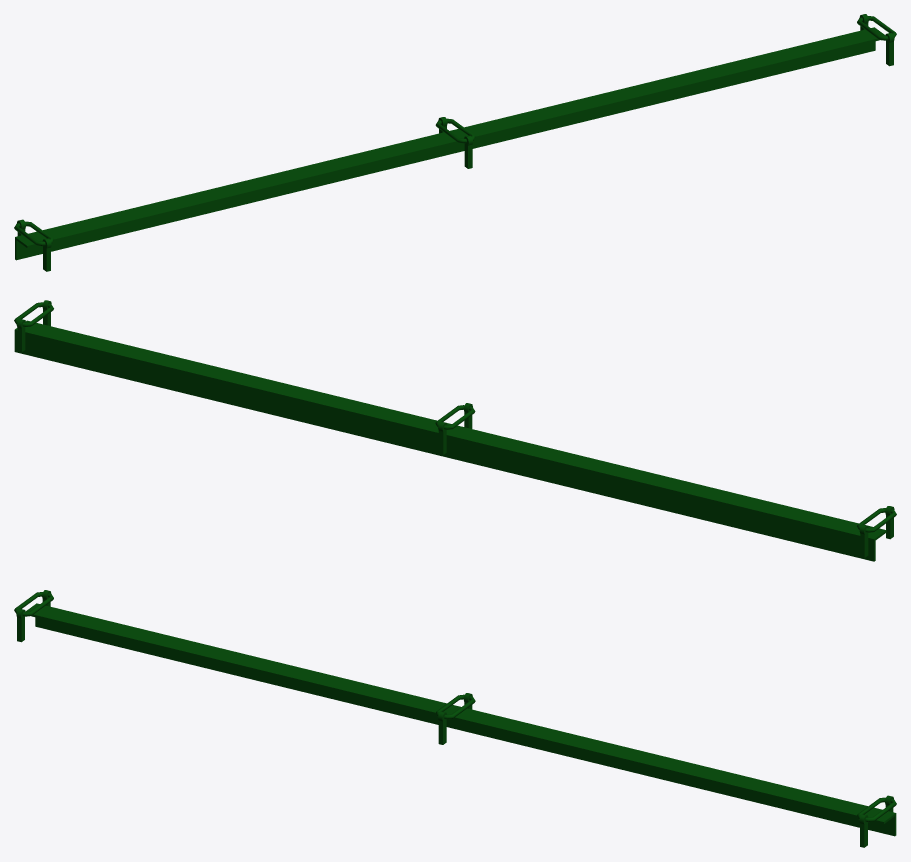
File: Traverse (1).FBX
The picture shows the model from 3 angles, top to bottom: view 1: azimuth 30°, elevation 25°; view 2: azimuth 150°, elevation 25°; view 3: azimuth 330°, elevation 25°; orthographic projection.
Parts seen in each view (by area): view 1: Traverse; view 2: Traverse; view 3: Traverse.
Boxes of the visible parts, x1,y1,x2,y2 form: Traverse: (14, 14, 896, 271); Traverse: (14, 300, 896, 561); Traverse: (14, 590, 896, 847).
Bounding box in the file's own units: 120 × 4.8 × 7.41.
